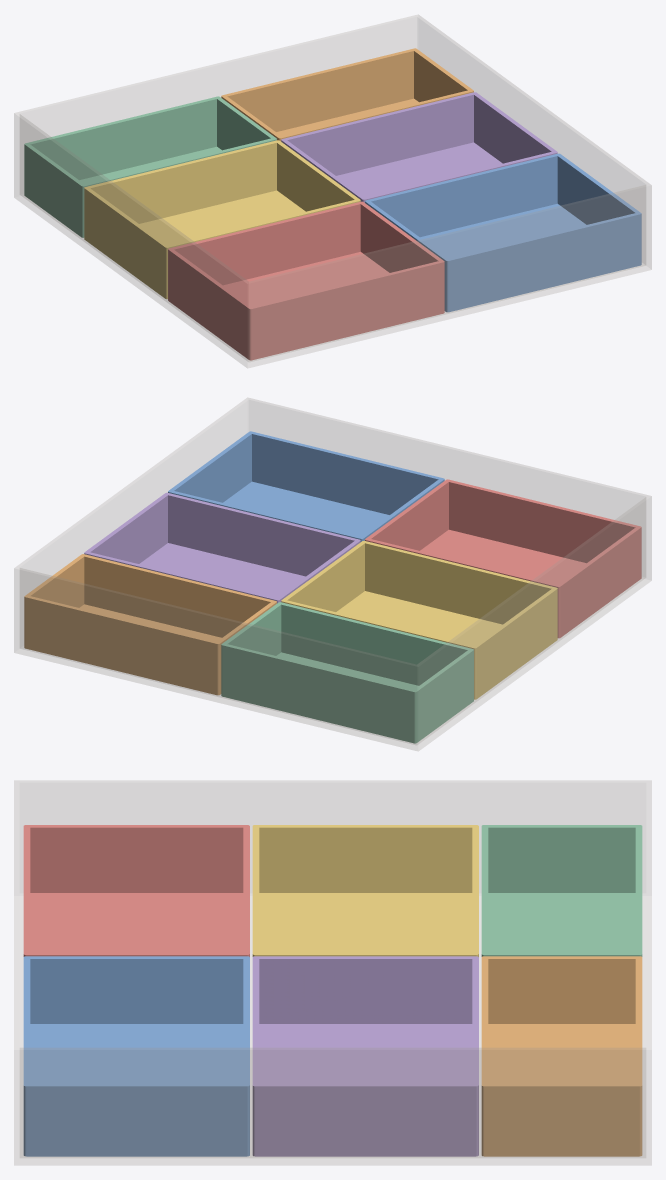
The model's file is organizer.glb.
3 renders of one model, top to bottom at view 1: azimuth 30°, elevation 25°; view 2: azimuth 150°, elevation 25°; view 3: azimuth 270°, elevation 25°, orthographic. The views are drawn at different scales.
Parts seen in each view (by area): view 1: Game box (preview only), Player 1 Bus Set (17 buses + 1 Scoring Marker), Player 2 Bus Set (17 buses + 1 Scoring Marker), Player 3 Bus Set (17 buses + 1 Scoring Marker), Player 4 Bus Set (17 buses + 1 Scoring Marker), Transportation Card Deck, Destination Ticket Card Deck; view 2: Game box (preview only), Transportation Card Deck, Destination Ticket Card Deck, Player 1 Bus Set (17 buses + 1 Scoring Marker), Player 3 Bus Set (17 buses + 1 Scoring Marker), Player 4 Bus Set (17 buses + 1 Scoring Marker), Player 2 Bus Set (17 buses + 1 Scoring Marker); view 3: Game box (preview only), Player 2 Bus Set (17 buses + 1 Scoring Marker), Player 4 Bus Set (17 buses + 1 Scoring Marker), Destination Ticket Card Deck, Player 1 Bus Set (17 buses + 1 Scoring Marker), Player 3 Bus Set (17 buses + 1 Scoring Marker), Transportation Card Deck.
Boxes of the visible parts, x1,y1,x2,y2 form: Game box (preview only): [14, 14, 651, 368]; Player 1 Bus Set (17 buses + 1 Scoring Marker): [168, 201, 444, 360]; Player 2 Bus Set (17 buses + 1 Scoring Marker): [365, 153, 641, 312]; Player 3 Bus Set (17 buses + 1 Scoring Marker): [84, 140, 360, 299]; Player 4 Bus Set (17 buses + 1 Scoring Marker): [281, 92, 557, 202]; Transportation Card Deck: [24, 96, 276, 237]; Destination Ticket Card Deck: [221, 48, 473, 141]; Game box (preview only): [14, 397, 651, 751]; Transportation Card Deck: [221, 602, 473, 743]; Destination Ticket Card Deck: [24, 554, 276, 695]; Player 1 Bus Set (17 buses + 1 Scoring Marker): [365, 479, 641, 638]; Player 3 Bus Set (17 buses + 1 Scoring Marker): [281, 540, 557, 699]; Player 4 Bus Set (17 buses + 1 Scoring Marker): [84, 492, 360, 603]; Player 2 Bus Set (17 buses + 1 Scoring Marker): [168, 431, 444, 541]; Game box (preview only): [14, 780, 651, 1165]; Player 2 Bus Set (17 buses + 1 Scoring Marker): [23, 956, 249, 1156]; Player 4 Bus Set (17 buses + 1 Scoring Marker): [252, 956, 478, 1156]; Destination Ticket Card Deck: [481, 956, 642, 1156]; Player 1 Bus Set (17 buses + 1 Scoring Marker): [23, 825, 249, 956]; Player 3 Bus Set (17 buses + 1 Scoring Marker): [252, 825, 478, 956]; Transportation Card Deck: [481, 825, 642, 956].
Bounding box in the file's own units: 0.23 × 0.046 × 0.23.
